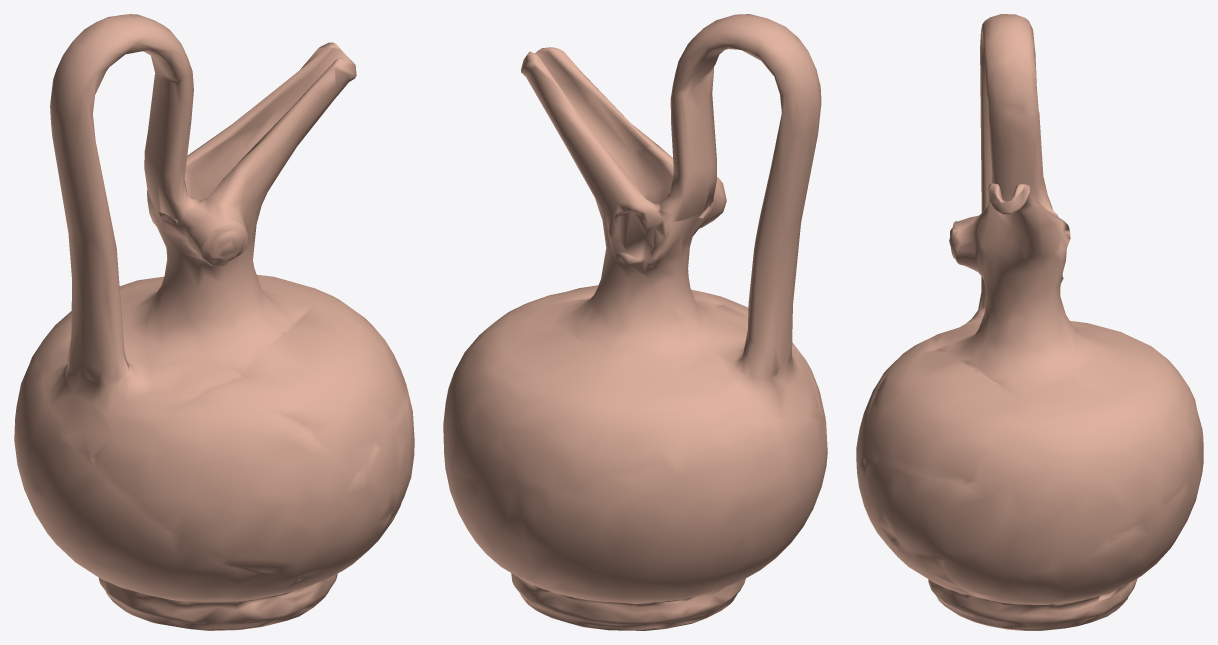
The model's file is wc-msr-vase-aryballisque.lod1.glb.
3 renders of one model, left to right at view 1: azimuth 30°, elevation 25°; view 2: azimuth 150°, elevation 25°; view 3: azimuth 270°, elevation 25°, orthographic. The views are drawn at different scales.
Parts seen in each view (by area): view 1: wc-msr-vase-aryballisque; view 2: wc-msr-vase-aryballisque; view 3: wc-msr-vase-aryballisque.
Boxes of the visible parts, x1,y1,x2,y2 form: wc-msr-vase-aryballisque: (14, 14, 414, 630); wc-msr-vase-aryballisque: (443, 14, 827, 630); wc-msr-vase-aryballisque: (856, 14, 1203, 630).
Size of the model in its own units: 0.1018 by 0.1699 by 0.1023.
